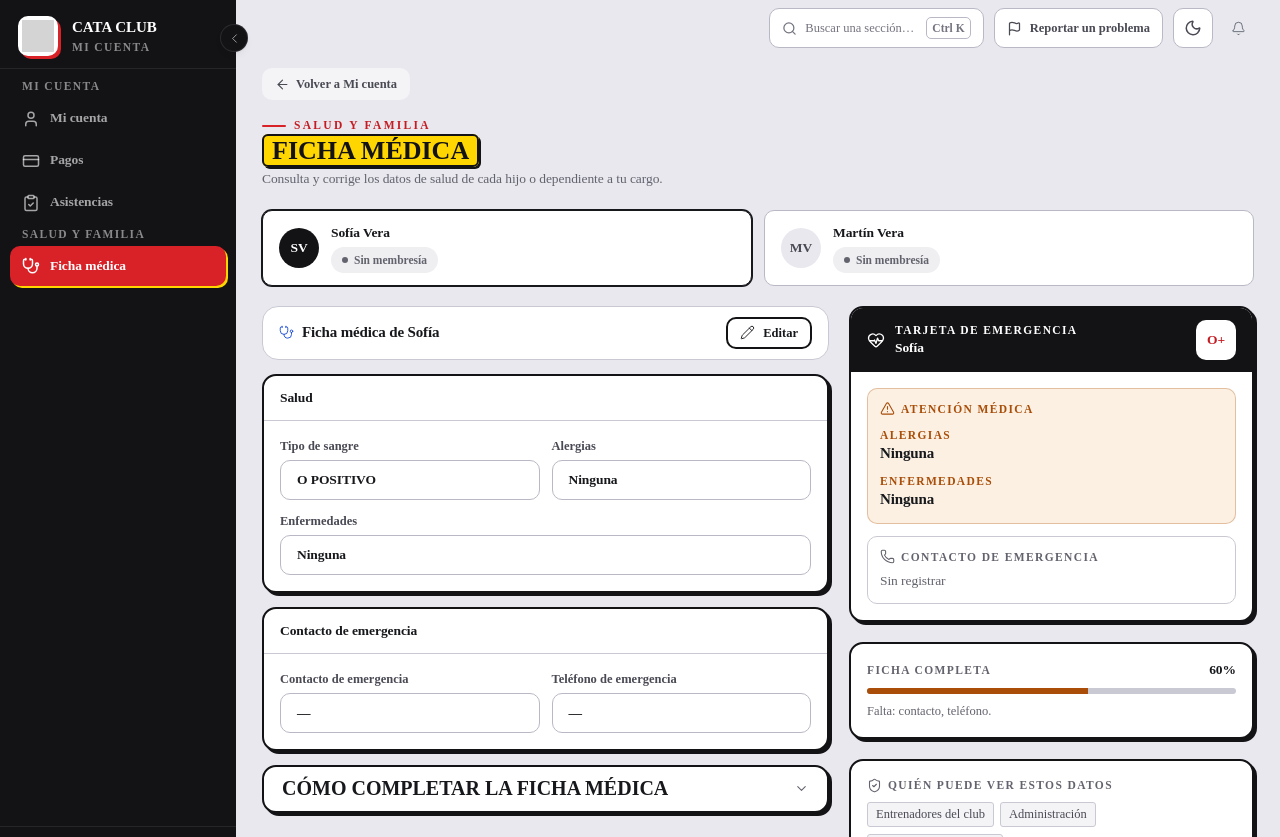
Test case: StudentMedicalRecordPage — emergency card rail › updates the emergency card while the form is being edited
Click the button "Editar" at {"x": 769, "y": 333}, box 726,317 -> 812,349
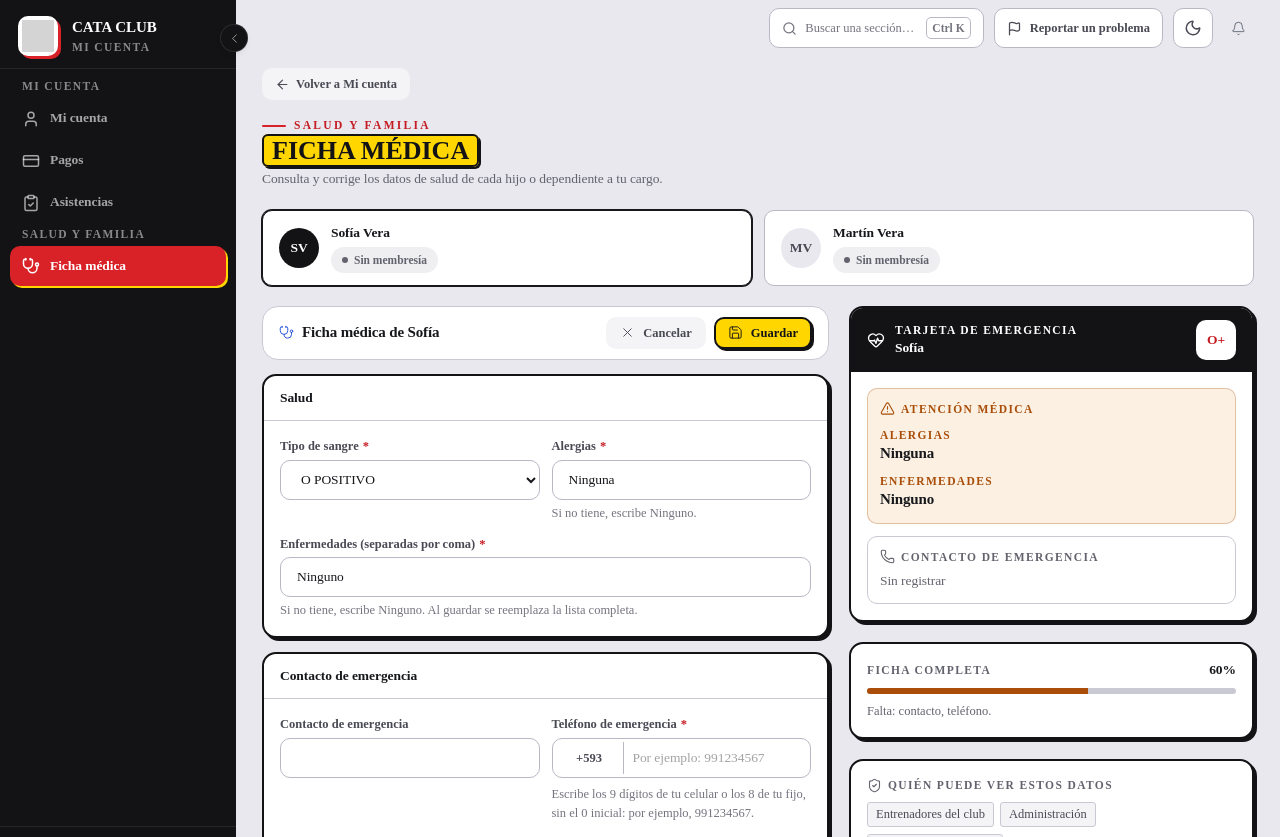
Replace the text in the field labelled "Alergias" with "Penicilina" at {"x": 681, "y": 480}, box 552,460 -> 811,500
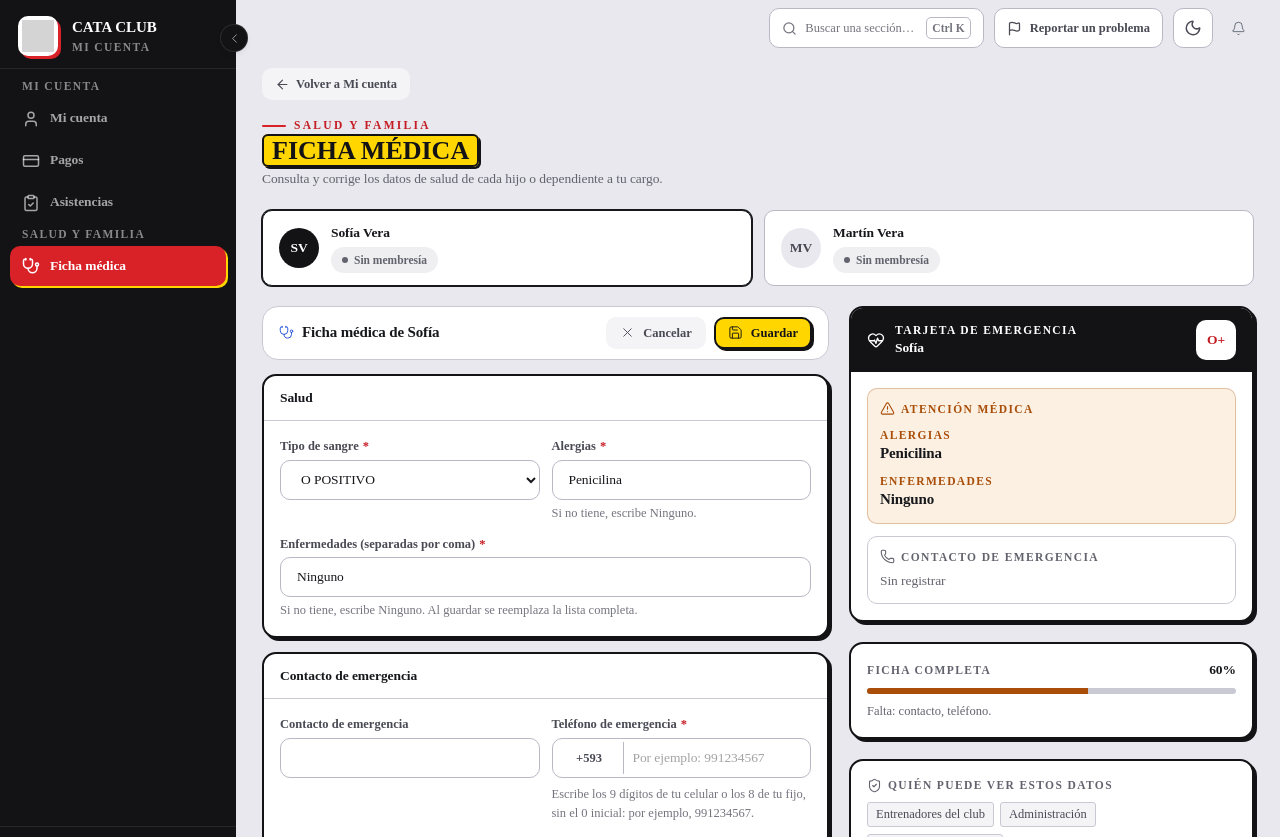
Now the text "Penicilina" is shown, box 880,445 -> 942,461
